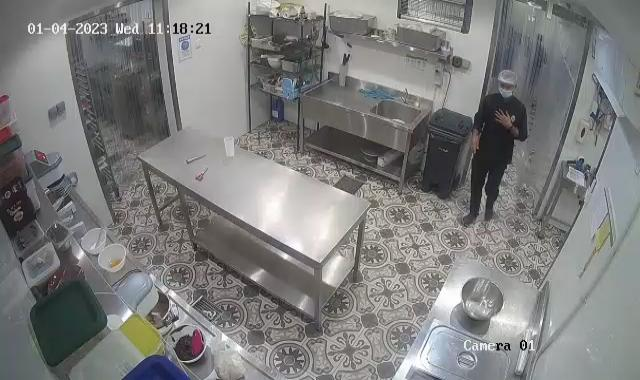hairnet: (497, 72, 517, 90)
